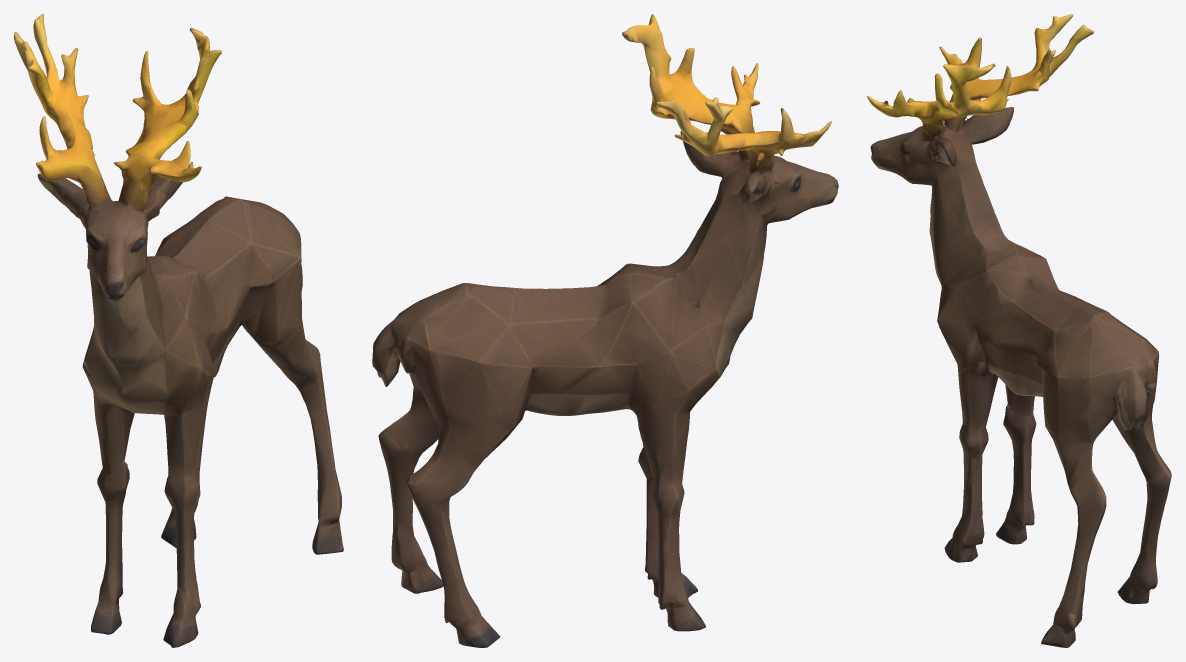
File: cervo.glb
The picture shows the model from 3 angles, left to right: view 1: azimuth 30°, elevation 25°; view 2: azimuth 150°, elevation 25°; view 3: azimuth 270°, elevation 25°; orthographic projection. The views are drawn at different scales.
Bounding box in the file's own units: 1.35 × 2 × 1.09.
1 material, 1 textured.
